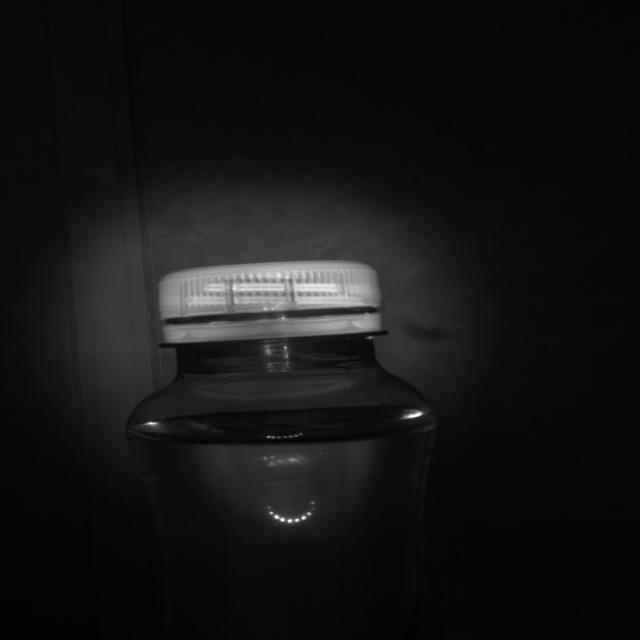Not Good: (157, 261, 383, 345)
